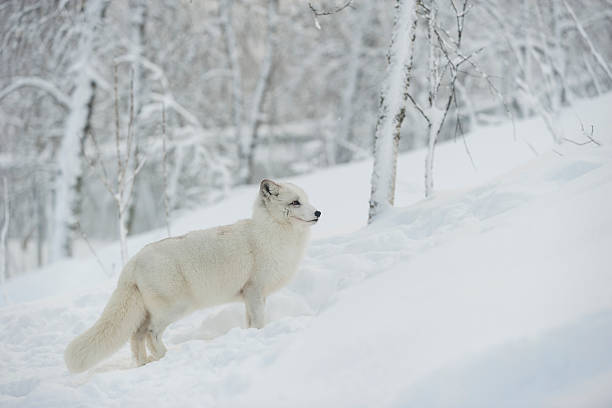arcticfox: (272, 185, 333, 238)
